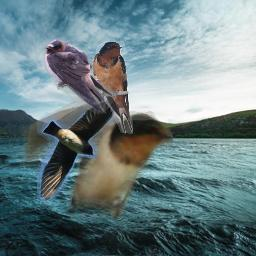Swallow: (20, 96, 173, 219), (37, 94, 117, 202), (43, 38, 115, 114), (92, 41, 133, 134)
